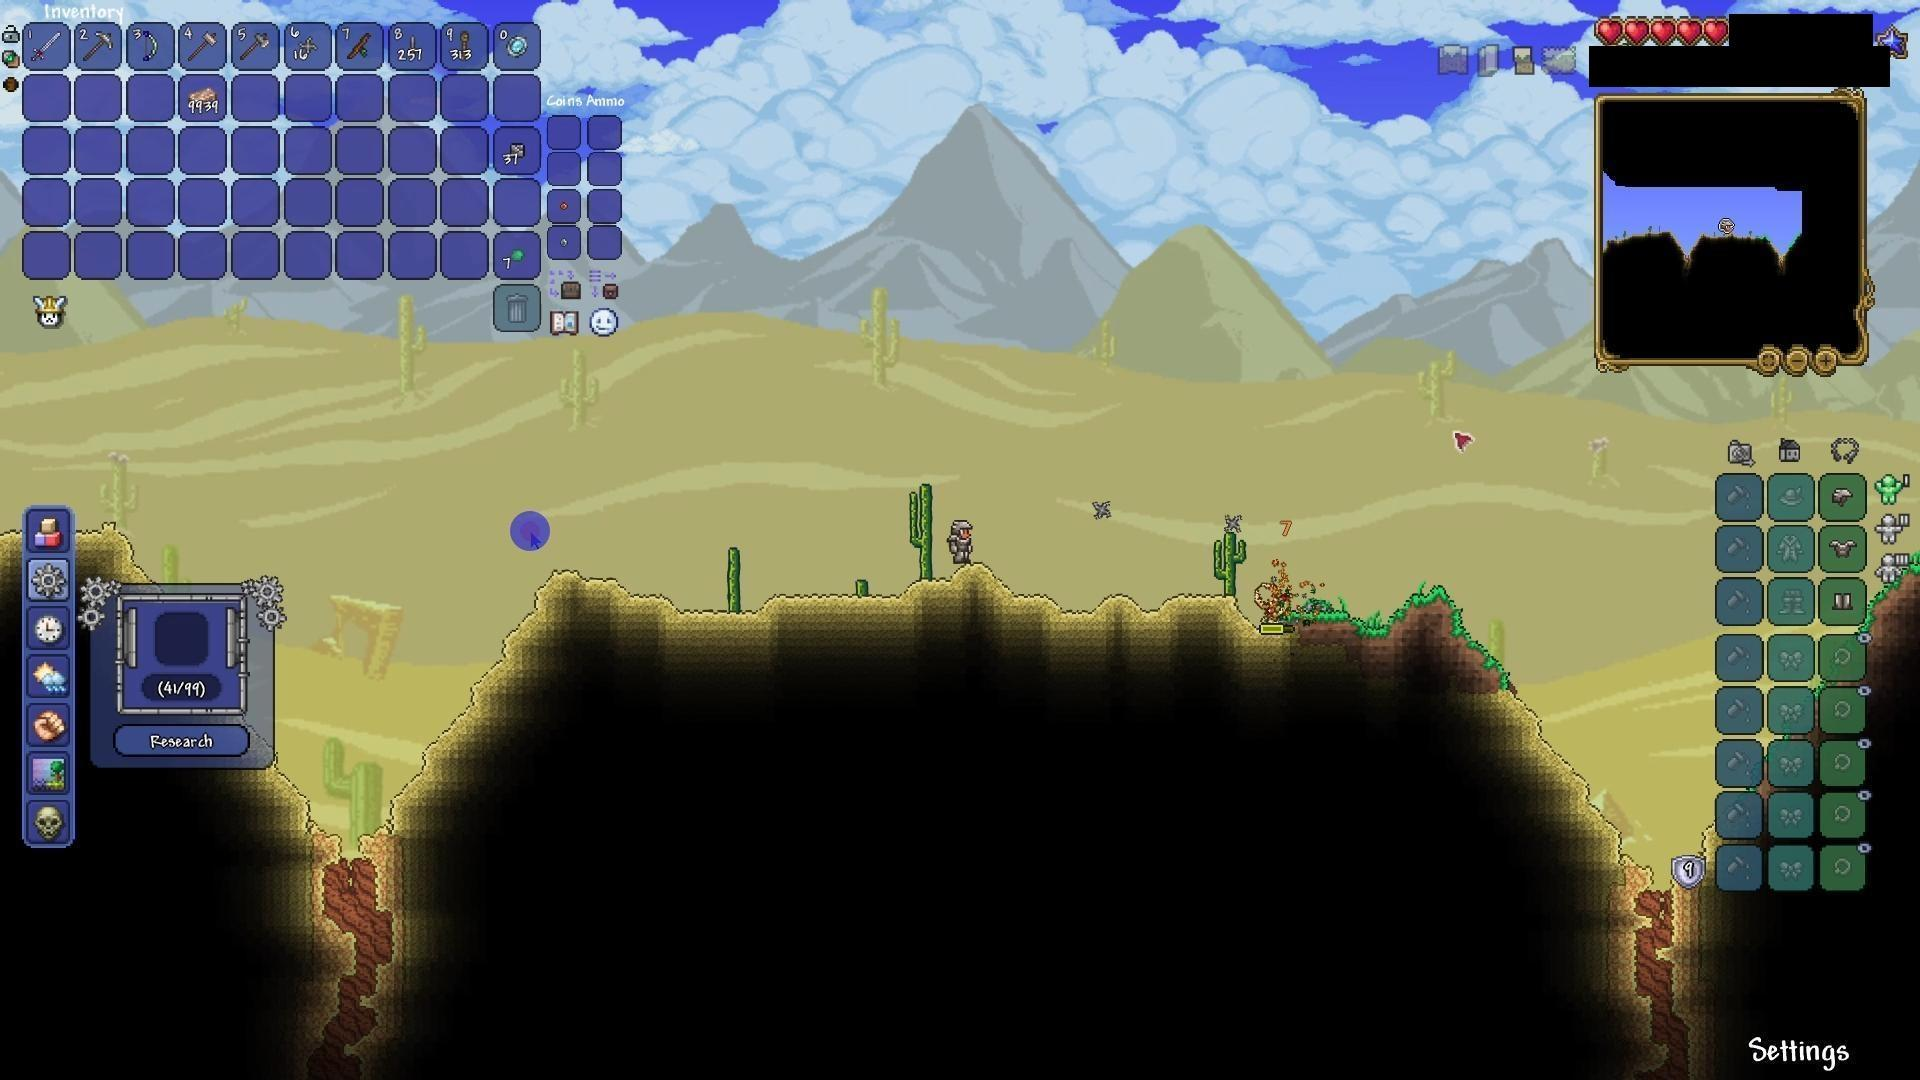dirt: (1287, 585, 1516, 690)
heart: (1702, 17, 1733, 51), (1593, 16, 1626, 46), (1676, 15, 1704, 50), (1650, 16, 1676, 49), (1625, 15, 1651, 44)
sand: (1004, 584, 1255, 640), (886, 560, 1017, 630), (360, 832, 409, 1017), (601, 585, 777, 634), (305, 825, 349, 1014), (375, 742, 481, 820), (762, 585, 907, 640), (510, 567, 601, 653), (1577, 816, 1647, 924), (440, 634, 509, 724), (76, 522, 152, 579), (1495, 698, 1556, 766), (1545, 752, 1600, 825), (280, 764, 311, 833), (0, 530, 22, 564)
